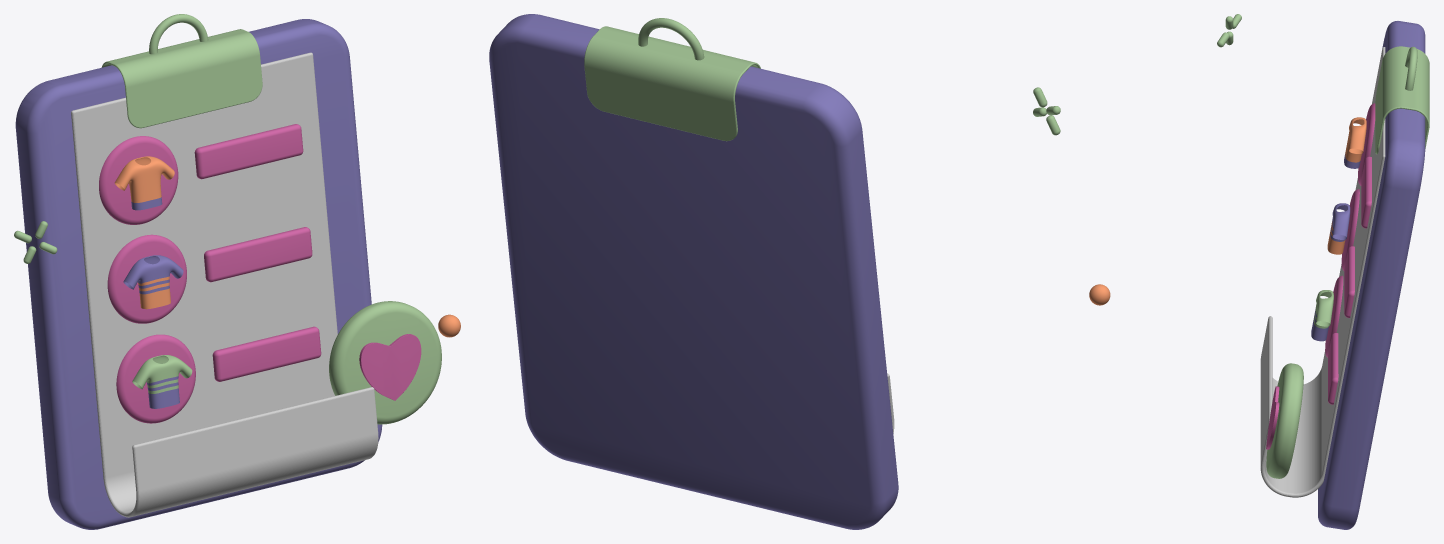
File: wishlist-3d-animated-icon-947580591221.glb
The picture shows the model from 3 angles, left to right: view 1: azimuth 30°, elevation 25°; view 2: azimuth 150°, elevation 25°; view 3: azimuth 270°, elevation 25°; orthographic projection. The views are drawn at different scales.
Visible parts, largest first — view 1: Plane.001, Cube, Plane, Cylinder.002, Cylinder.003, Cylinder.001, Cylinder, Cube.002, Cube.003, Cube.005, Plane.002, Cube.001 (+4 smaller); view 2: Cube, Plane, Torus; view 3: Cube, Plane.001, Plane, Cylinder.002, Cube.001, Cube.004, Cube.018, Cube.002, Cube.003, Cube.005, Cylinder.001, Cylinder.003 (+3 smaller).
Boxes of the visible parts, x1=… form: Plane.001: x1=71, y1=52, x2=378, y2=517; Cube: x1=15, y1=19, x2=382, y2=529; Plane: x1=101, y1=29, x2=262, y2=128; Cylinder.002: x1=329, y1=301, x2=441, y2=424; Cylinder.003: x1=116, y1=334, x2=195, y2=423; Cylinder.001: x1=107, y1=234, x2=186, y2=323; Cylinder: x1=99, y1=136, x2=178, y2=224; Cube.002: x1=194, y1=124, x2=303, y2=179; Cube.003: x1=204, y1=227, x2=312, y2=282; Cube.005: x1=212, y1=326, x2=321, y2=381; Plane.002: x1=359, y1=334, x2=421, y2=400; Cube.001: x1=123, y1=255, x2=183, y2=309; Cube: x1=489, y1=14, x2=898, y2=529; Plane: x1=584, y1=26, x2=760, y2=141; Torus: x1=638, y1=18, x2=704, y2=60; Cube: x1=1318, y1=21, x2=1425, y2=529; Plane.001: x1=1260, y1=47, x2=1385, y2=497; Plane: x1=1375, y1=46, x2=1429, y2=154; Cylinder.002: x1=1266, y1=363, x2=1303, y2=478; Cube.001: x1=1327, y1=203, x2=1350, y2=254; Cube.004: x1=1311, y1=290, x2=1333, y2=341; Cube.018: x1=1344, y1=117, x2=1366, y2=168; Cube.002: x1=1361, y1=156, x2=1371, y2=228; Cube.003: x1=1344, y1=246, x2=1354, y2=317; Cube.005: x1=1328, y1=333, x2=1338, y2=404; Cylinder.001: x1=1341, y1=189, x2=1359, y2=270; Cylinder.003: x1=1325, y1=275, x2=1343, y2=357.
Bounding box in the file's own units: 2.3 × 2.2 × 1.62.
